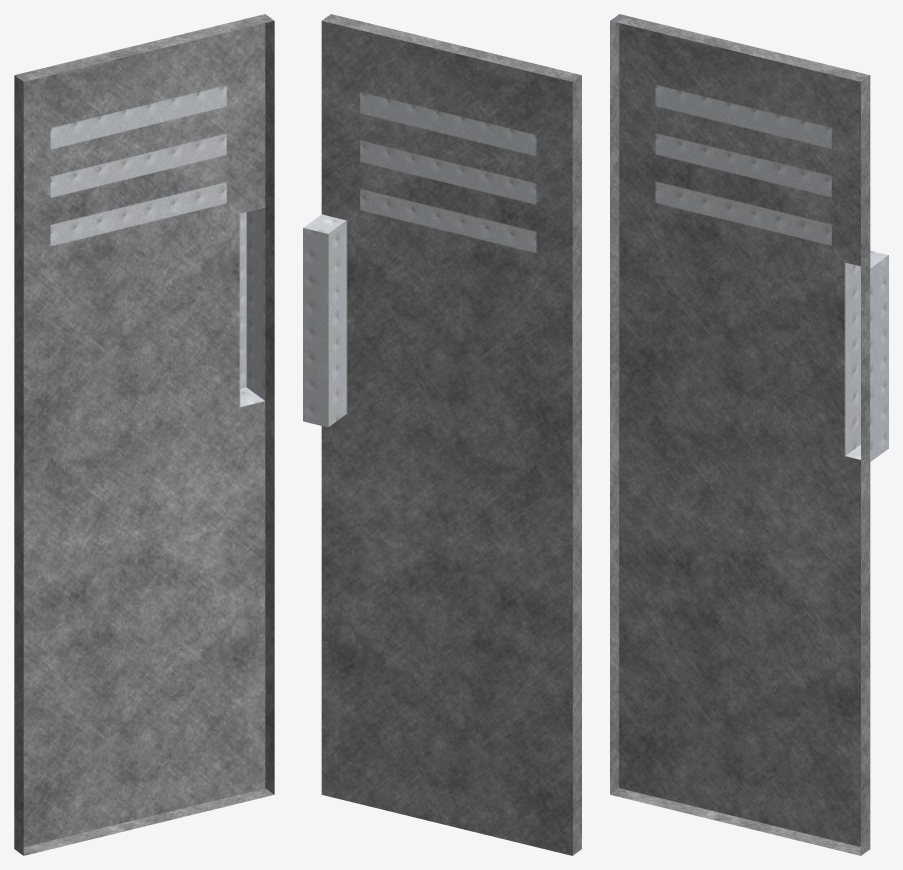
Rendered from LockerDoor1.fbx.
The picture shows the model from 3 angles, left to right: view 1: azimuth 30°, elevation 25°; view 2: azimuth 150°, elevation 25°; view 3: azimuth 330°, elevation 25°; orthographic projection.
Visible parts, largest first — view 1: Locker-door1; view 2: Locker-door1; view 3: Locker-door1.
Part boxes in pixels (left/top/right/bottom): Locker-door1: left=14, top=14, right=274, bottom=855; Locker-door1: left=303, top=14, right=581, bottom=855; Locker-door1: left=610, top=14, right=888, bottom=855.
Bounding box in the file's own units: 78 × 230 × 15.
1 material, 1 textured.
